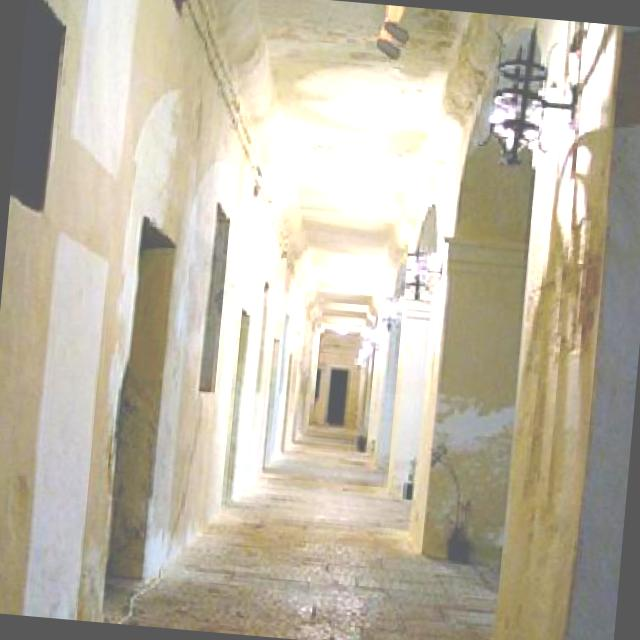Person: (374, 4, 416, 67)
